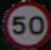Speed limit: (6, 1, 45, 41)
